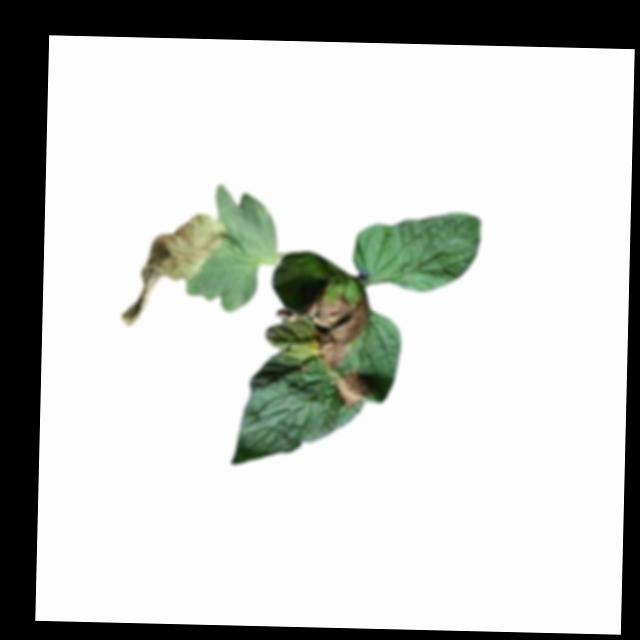Late_blight: (119, 210, 230, 331), (272, 285, 369, 371), (328, 370, 371, 409)
healthy: (349, 200, 481, 292)
